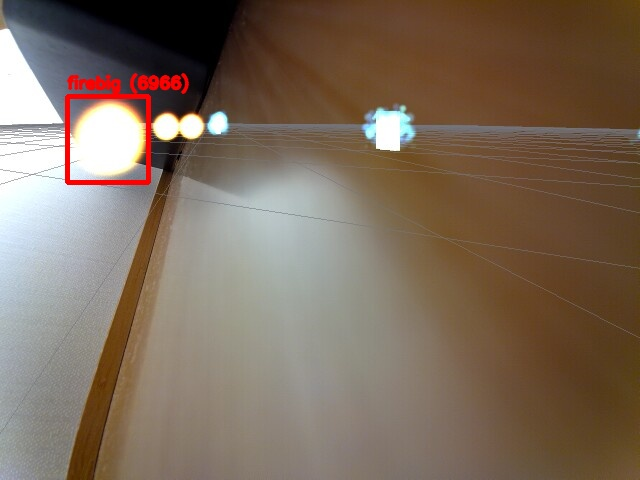firebig: (67, 96, 148, 182)
